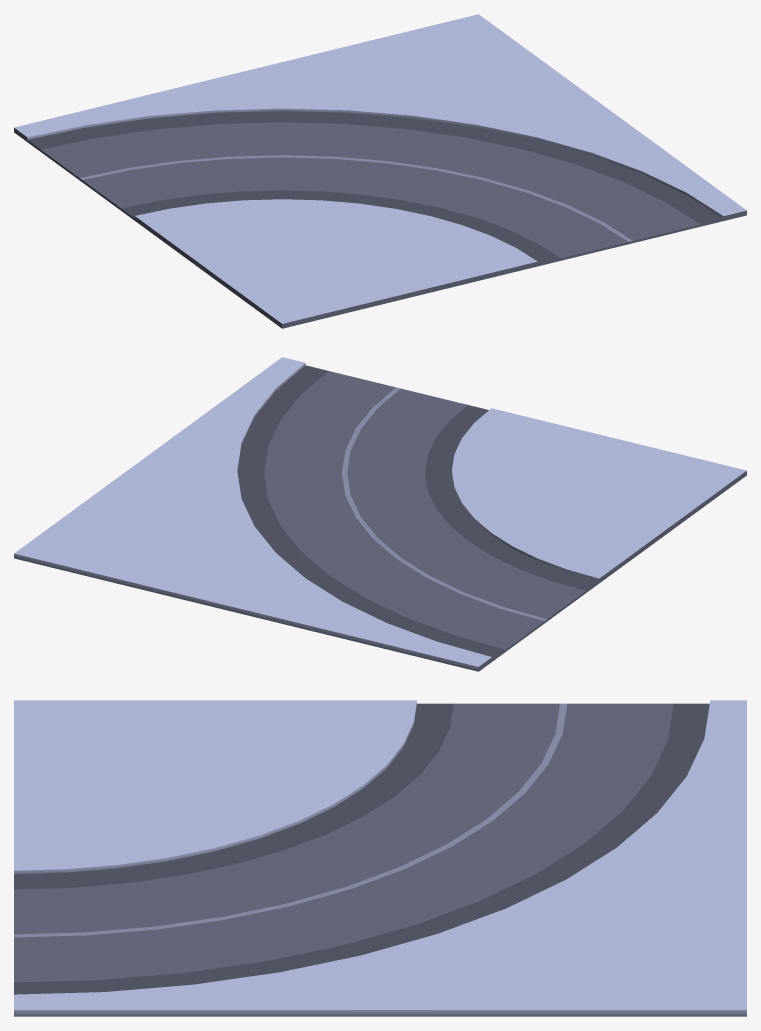
Rendered from road-curve-pavement.fbx.
3 renders of one model, top to bottom at view 1: azimuth 30°, elevation 25°; view 2: azimuth 150°, elevation 25°; view 3: azimuth 270°, elevation 25°, orthographic. The views are drawn at different scales.
Visible parts, largest first — view 1: road-curve-pavement; view 2: road-curve-pavement; view 3: road-curve-pavement.
Boxes of the visible parts, bbox=[...] form: road-curve-pavement: bbox=[14, 14, 746, 328]; road-curve-pavement: bbox=[14, 357, 746, 671]; road-curve-pavement: bbox=[14, 700, 746, 1016].
Bounding box in the file's own units: 200 × 2 × 200.
